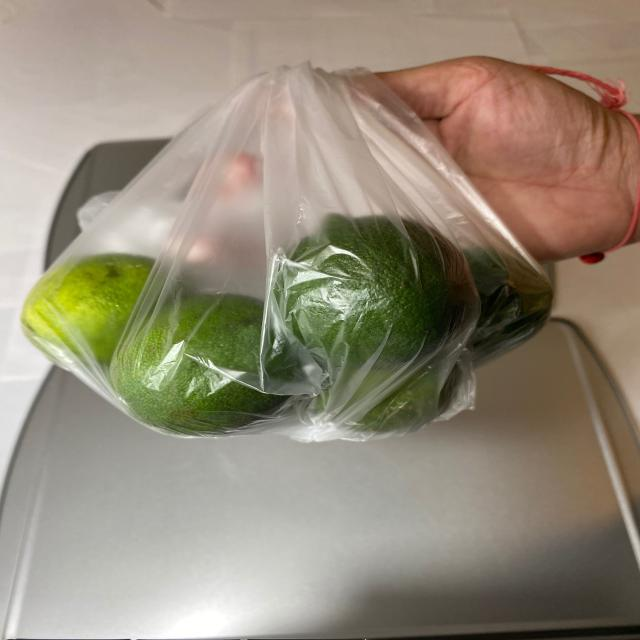lemon: (24, 217, 563, 440)
